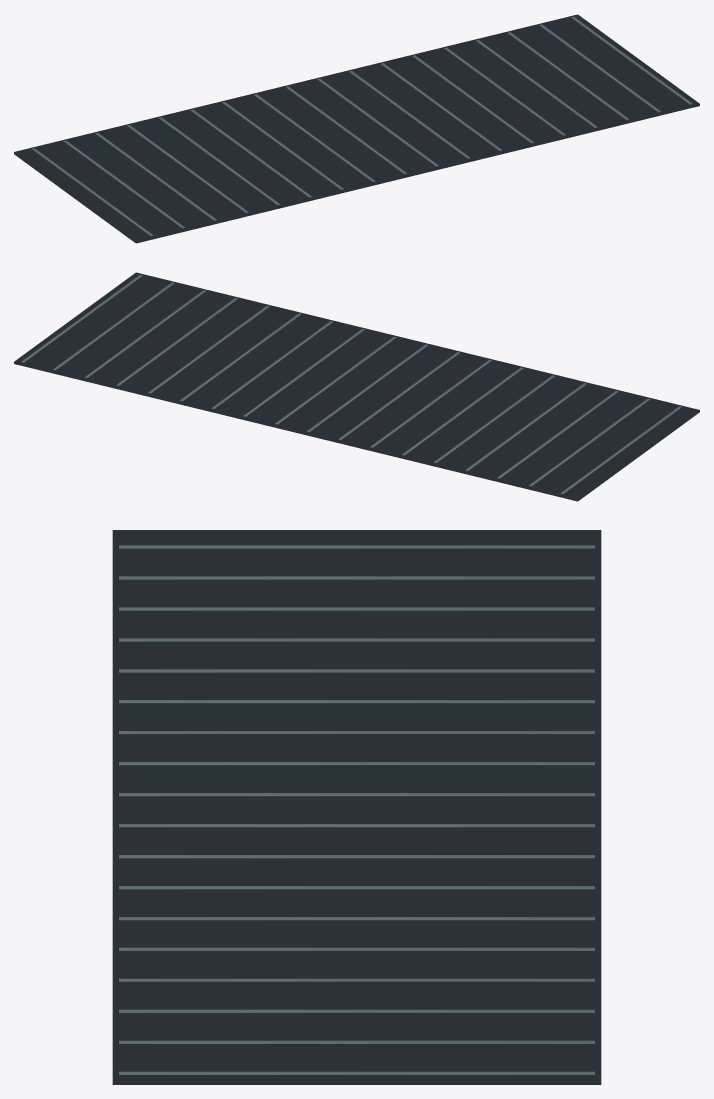
The model's file is buffer_belt.dae.
3 views of the same model, one above another, from view 1: azimuth 30°, elevation 25°; view 2: azimuth 150°, elevation 25°; view 3: azimuth 270°, elevation 25° (orthographic). The views are drawn at different scales.
Parts seen in each view (by area): view 1: contact, texture_-0.750, texture_-0.660, texture_-0.570, texture_-0.300, texture_-0.390, texture_-0.210, texture_0.240, texture_0.420, texture_0.510, texture_0.690, texture_-0.480 (+7 smaller); view 2: contact, texture_-0.750, texture_-0.660, texture_-0.570, texture_-0.300, texture_-0.390, texture_-0.210, texture_0.240, texture_0.420, texture_0.510, texture_0.690, texture_-0.480 (+7 smaller); view 3: contact, texture_-0.750, texture_-0.660, texture_-0.570, texture_-0.480, texture_-0.390, texture_-0.300, texture_-0.210, texture_-0.120, texture_-0.030, texture_0.060, texture_0.150 (+7 smaller).
Part boxes in pixels (bbox=[...]): contact: bbox=[14, 14, 699, 243]; texture_-0.750: bbox=[32, 148, 153, 235]; texture_-0.660: bbox=[63, 140, 185, 228]; texture_-0.570: bbox=[95, 132, 216, 220]; texture_-0.300: bbox=[190, 109, 311, 197]; texture_-0.390: bbox=[159, 117, 280, 205]; texture_-0.210: bbox=[222, 102, 343, 189]; texture_0.240: bbox=[381, 63, 502, 150]; texture_0.420: bbox=[444, 47, 565, 135]; texture_0.510: bbox=[476, 40, 597, 127]; texture_0.690: bbox=[539, 24, 660, 112]; texture_-0.480: bbox=[127, 125, 248, 212]; contact: bbox=[14, 272, 699, 501]; texture_-0.750: bbox=[560, 406, 681, 493]; texture_-0.660: bbox=[528, 398, 650, 486]; texture_-0.570: bbox=[497, 390, 618, 478]; texture_-0.300: bbox=[402, 367, 523, 455]; texture_-0.390: bbox=[433, 375, 554, 463]; texture_-0.210: bbox=[370, 360, 491, 447]; texture_0.240: bbox=[211, 321, 332, 408]; texture_0.420: bbox=[148, 305, 269, 393]; texture_0.510: bbox=[116, 298, 237, 385]; texture_0.690: bbox=[53, 282, 174, 370]; texture_-0.480: bbox=[465, 383, 586, 470]; contact: bbox=[112, 530, 601, 1084]; texture_-0.750: bbox=[119, 545, 594, 548]; texture_-0.660: bbox=[119, 576, 594, 579]; texture_-0.570: bbox=[119, 607, 594, 610]; texture_-0.480: bbox=[119, 638, 594, 641]; texture_-0.390: bbox=[119, 669, 594, 672]; texture_-0.300: bbox=[119, 700, 594, 703]; texture_-0.210: bbox=[119, 731, 594, 734]; texture_-0.120: bbox=[119, 762, 594, 765]; texture_-0.030: bbox=[119, 793, 594, 796]; texture_0.060: bbox=[119, 824, 594, 827]; texture_0.150: bbox=[119, 855, 594, 858].
Bounding box in the file's own units: 1.6 × 0.6 × 0.0068.
